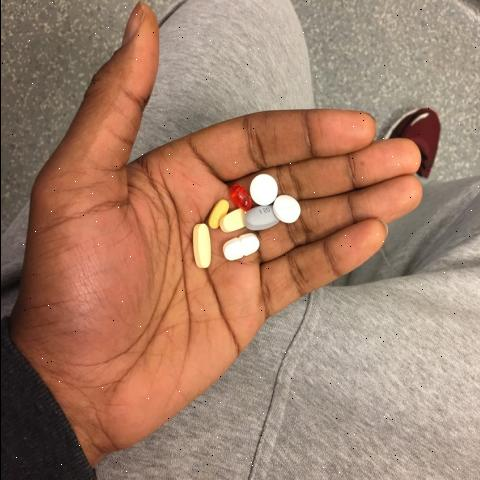Pill: (181, 222, 221, 273), (212, 229, 262, 267), (248, 164, 280, 206), (269, 191, 302, 226)
